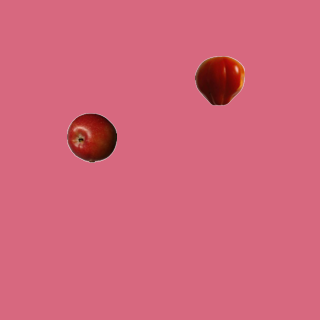Apple Braeburn: (66, 112, 116, 162)
Tomato 1: (194, 55, 244, 105)
